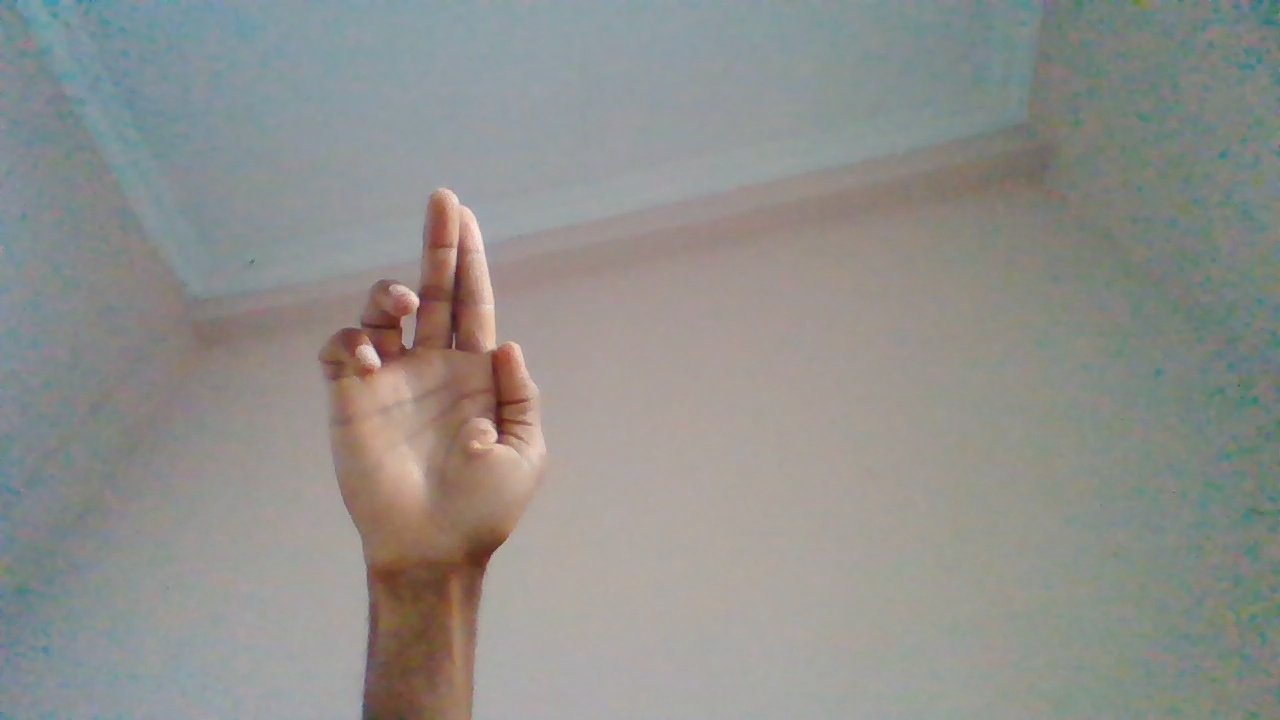gne: (317, 186, 534, 647)
